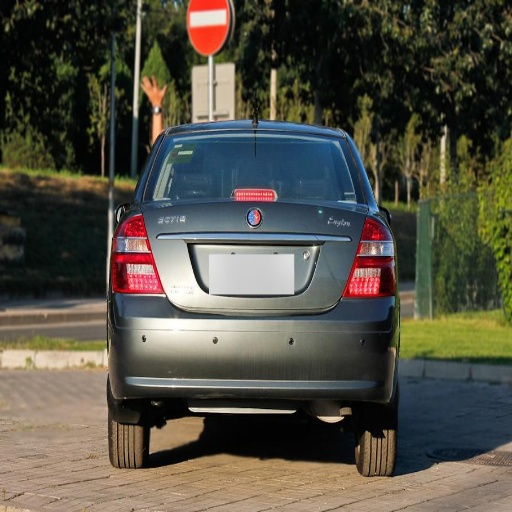back_bumper: (107, 294, 395, 414)
